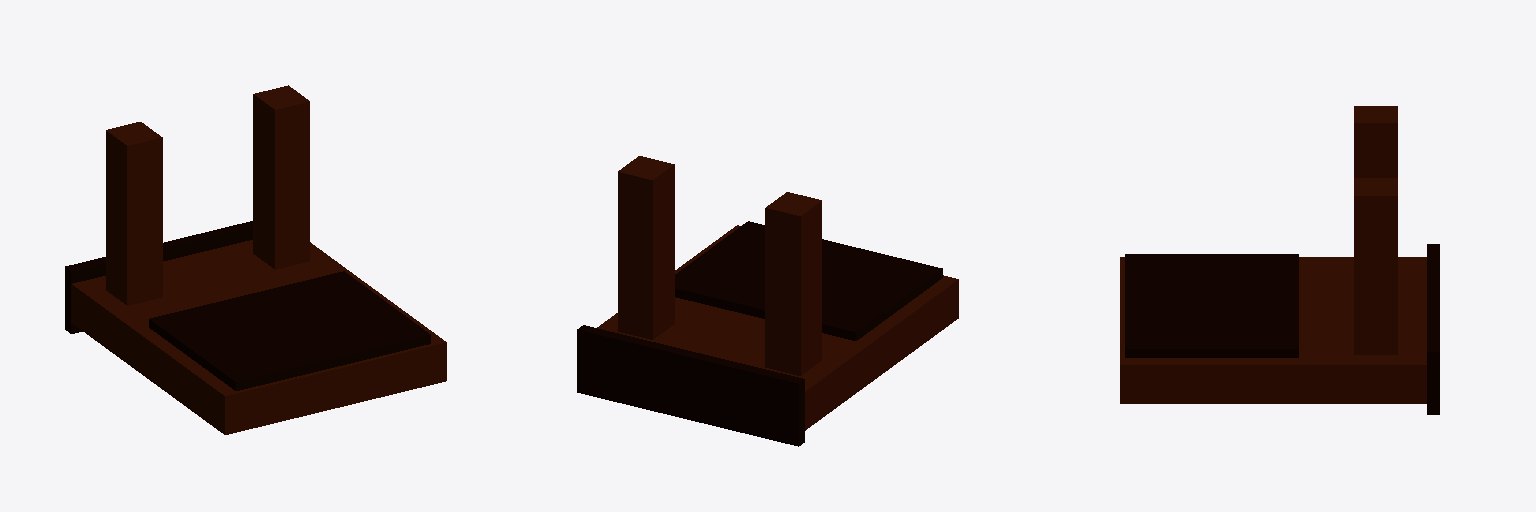
File: catapult_base.obj
The picture shows the model from 3 angles: view 1: azimuth 30°, elevation 25°; view 2: azimuth 150°, elevation 25°; view 3: azimuth 270°, elevation 25°; orthographic projection.
Visible parts, largest first — view 1: ForestCatapultBase_Cube.002; view 2: ForestCatapultBase_Cube.002; view 3: ForestCatapultBase_Cube.002.
Boxes of the visible parts, x1=… form: ForestCatapultBase_Cube.002: x1=65, y1=85, x2=446, y2=434; ForestCatapultBase_Cube.002: x1=577, y1=156, x2=958, y2=446; ForestCatapultBase_Cube.002: x1=1120, y1=106, x2=1439, y2=414.
Size of the model in its own units: 2 by 1.81 by 2.5.